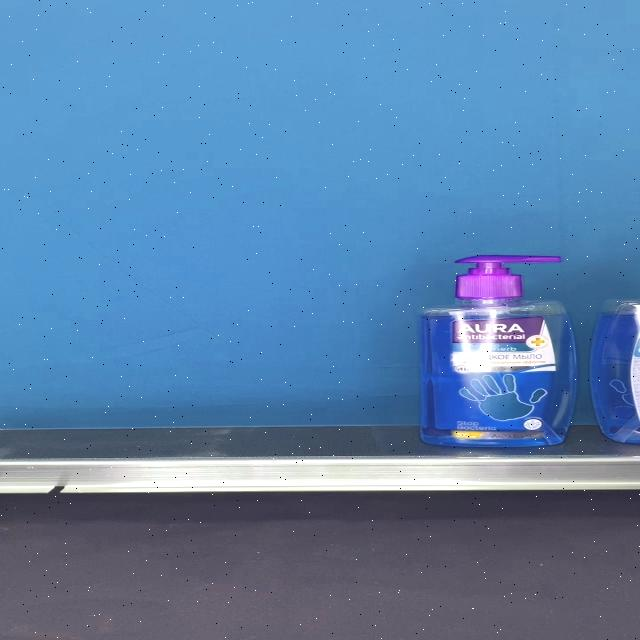Bottle: (418, 256, 578, 447)
Cap: (456, 256, 565, 300)
